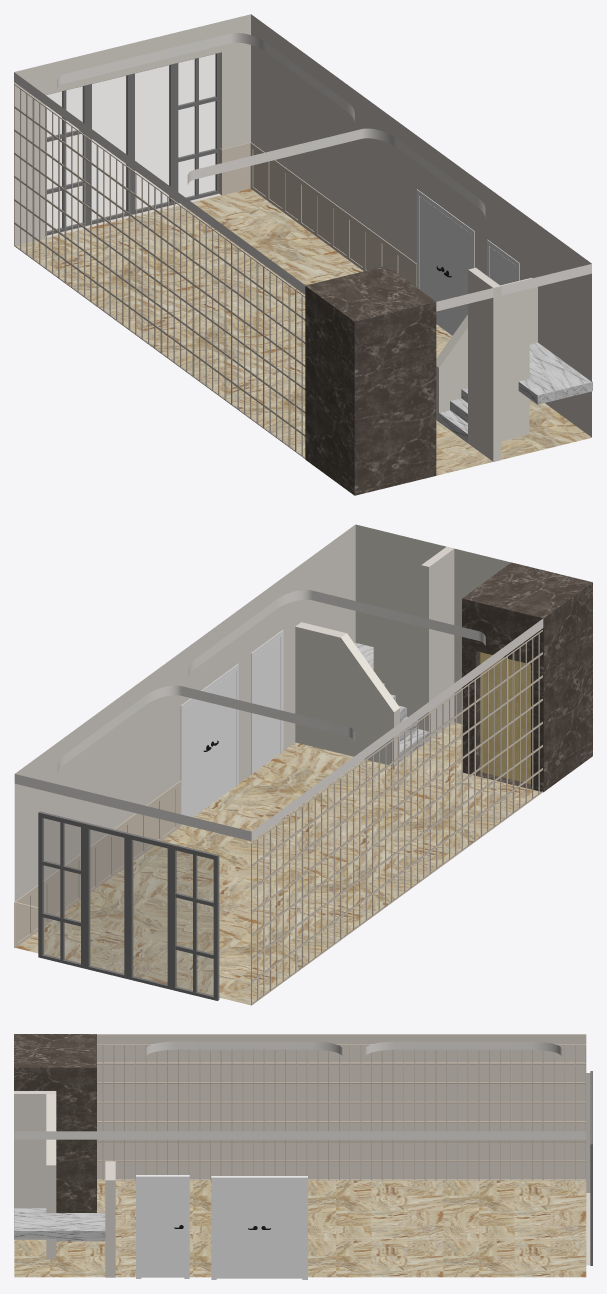
Rendered from hotel-lobby.glb.
The picture shows the model from 3 angles, top to bottom: view 1: azimuth 30°, elevation 25°; view 2: azimuth 150°, elevation 25°; view 3: azimuth 270°, elevation 25°; orthographic projection. The views are drawn at different scales.
Visible parts, largest first — view 1: floor, right_wall, Cube.002, Cube, front_wall, pop, Cube.005, Cube.001, Cube.006, Cube.004, Door.001, Door.002 (+2 smaller); view 2: floor, right_wall, Cube, Cube.002, pop, Cube.004, Cube.005, back_wall, Cube.001, Cube.003, Door.001, Door (+4 smaller); view 3: left_wall, floor, Cube.002, pop, Cube.005, Door.002, Door, Door.001, Cube.006, DoorFrame.001, DoorFrame, Cube.004 (+2 smaller).
Boxes of the visible parts, x1,y1,x2,y2 form: floor: (16,188,591,475); right_wall: (251,14,591,437); Cube.002: (305,265,436,495); Cube: (45,53,219,235); front_wall: (14,14,250,245); pop: (14,33,591,311); Cube.005: (468,267,529,461); Cube.001: (219,142,416,287); Cube.006: (438,342,592,442); Cube.004: (436,277,537,420); Door.001: (419,196,445,330); Door.002: (445,215,471,335); floor: (15,722,540,1005); right_wall: (14,524,355,947); Cube: (38,811,219,1000); Cube.002: (462,562,592,792); pop: (14,590,543,841); Cube.004: (295,622,399,766); Cube.005: (373,546,454,740); back_wall: (355,524,510,723); Cube.001: (14,780,181,953); Cube.003: (480,652,530,783); Door.001: (183,690,209,817); Door: (254,637,280,772); left_wall: (97,1034,586,1179); floor: (14,1180,586,1277); Cube.002: (14,1034,96,1212); pop: (14,1041,586,1139); Cube.005: (14,1091,56,1259); Door.002: (216,1182,259,1278); Door: (141,1181,184,1277); Door.001: (259,1182,302,1278); Cube.006: (14,1208,106,1241); DoorFrame.001: (211,1176,307,1279); DoorFrame: (136,1175,189,1278); Cube.004: (105,1161,115,1277).
Bounding box in the file's own units: 5.26 × 3.63 × 12.95.
Materials: 12 (6 with a texture image).
